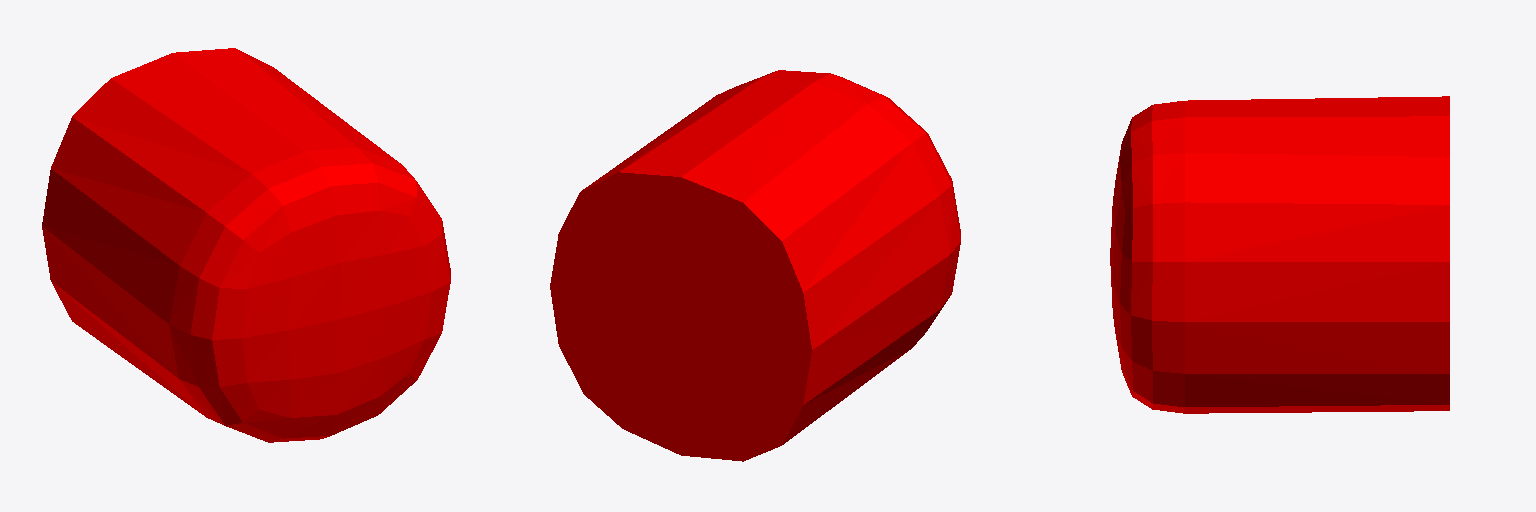
The model's file is PunchingBag.obj.
3 views of the same model, side by side, from view 1: azimuth 30°, elevation 25°; view 2: azimuth 150°, elevation 25°; view 3: azimuth 270°, elevation 25° (orthographic).
Visible parts, largest first — view 1: boxingBag; view 2: boxingBag; view 3: boxingBag.
Boxes of the visible parts, box(x1,y1,x2,y2) form: boxingBag: box(42, 48, 450, 442); boxingBag: box(550, 70, 960, 461); boxingBag: box(1110, 96, 1449, 413).
Size of the model in its own units: 0.9017 by 0.8997 by 0.9855.